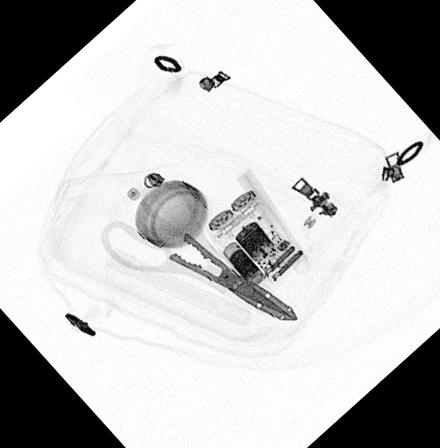Scissors: (99, 181, 296, 320)
